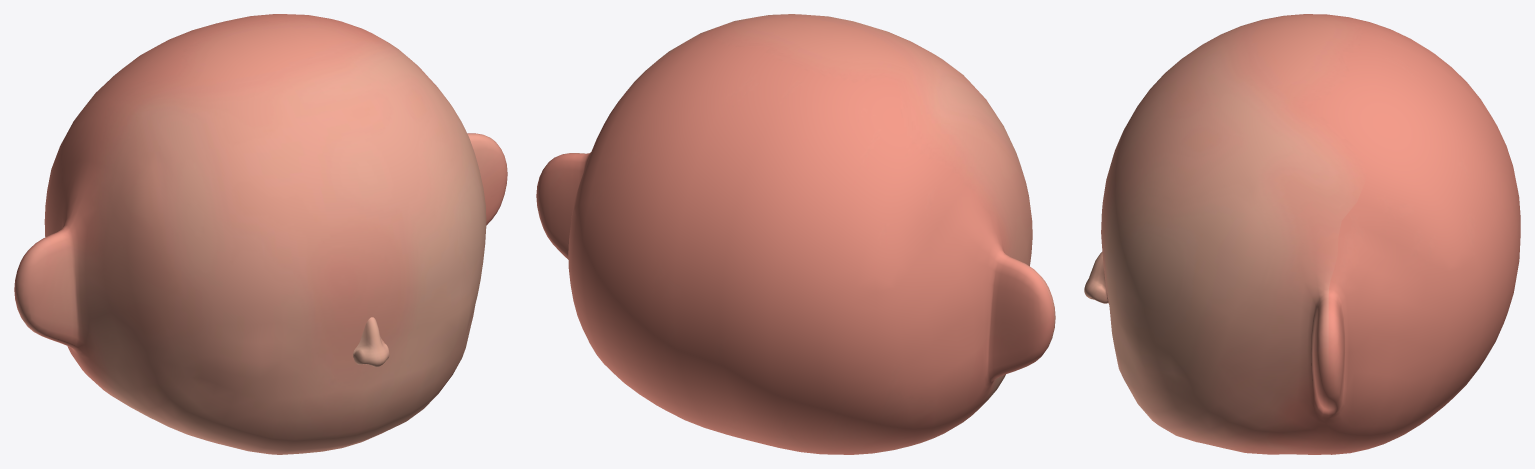
The picture shows the model from 3 angles, left to right: view 1: azimuth 30°, elevation 25°; view 2: azimuth 150°, elevation 25°; view 3: azimuth 270°, elevation 25°; orthographic projection. The views are drawn at different scales.
Parts seen in each view (by area): view 1: face, nose_05; view 2: face; view 3: face, nose_05.
Boxes of the visible parts, x1,y1,x2,y2 form: face: (14, 14, 507, 454); nose_05: (353, 317, 389, 367); face: (536, 14, 1055, 454); face: (1101, 14, 1520, 454); nose_05: (1084, 252, 1108, 303).
Size of the model in its own units: 0.011 by 0.00803 by 0.00832.
Materials: 1 (1 with a texture image).
